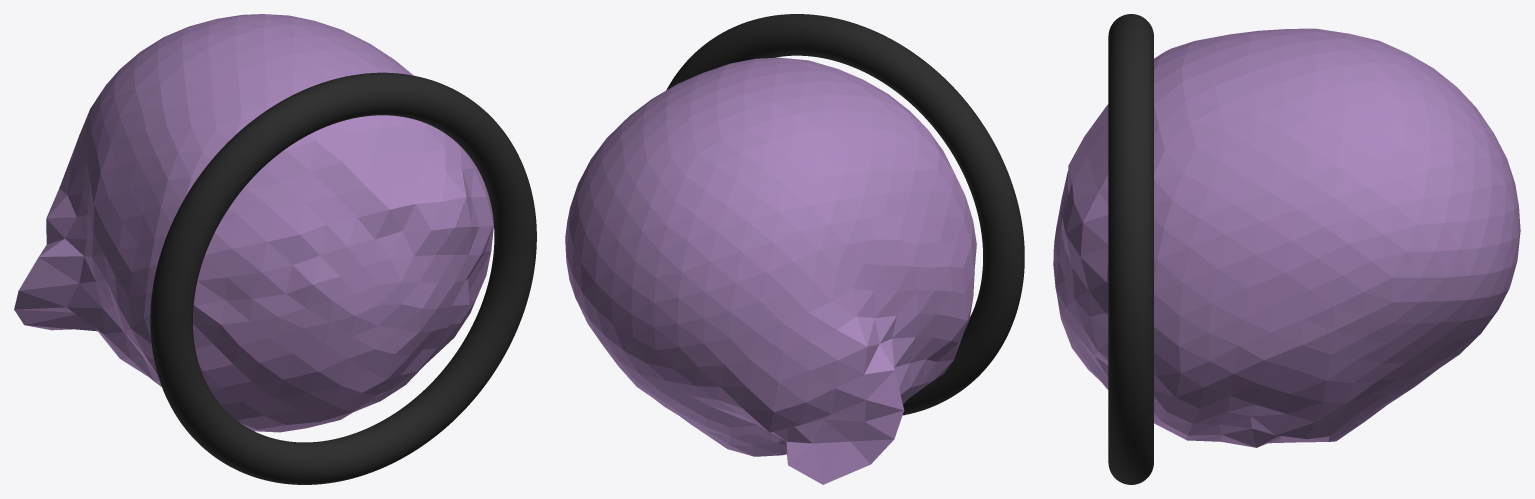
3 views of the same model, side by side, from view 1: azimuth 30°, elevation 25°; view 2: azimuth 150°, elevation 25°; view 3: azimuth 270°, elevation 25° (orthographic). The views are drawn at different scales.
Parts seen in each view (by area): view 1: actual014_body_inferred_base_gray, fixed_CAD_Ring; view 2: actual014_body_inferred_base_gray, fixed_CAD_Ring; view 3: actual014_body_inferred_base_gray, fixed_CAD_Ring.
Part boxes in pixels (x1,y1,x2,y2): actual014_body_inferred_base_gray: [14, 14, 493, 432]; fixed_CAD_Ring: [150, 72, 536, 484]; actual014_body_inferred_base_gray: [565, 57, 976, 484]; fixed_CAD_Ring: [666, 14, 1024, 415]; actual014_body_inferred_base_gray: [1053, 28, 1520, 447]; fixed_CAD_Ring: [1108, 14, 1153, 484].
Size of the model in its own units: 0.0126 by 0.0124 by 0.0123.
